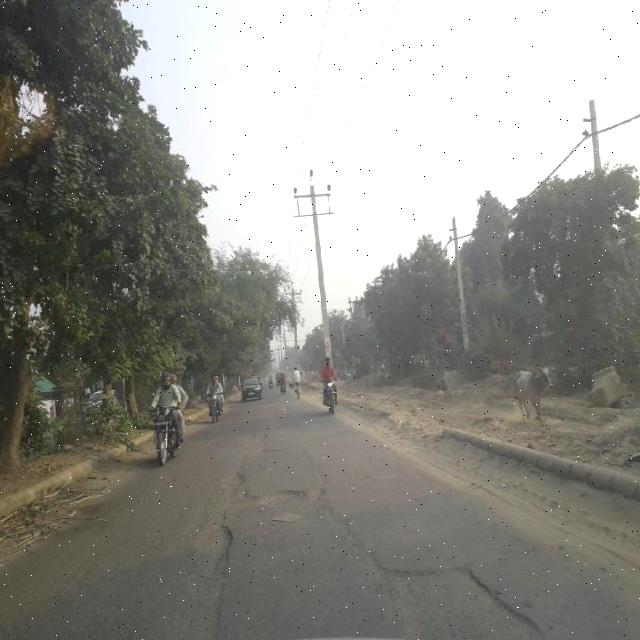D40: (170, 445, 266, 639), (365, 549, 553, 639), (269, 473, 337, 538)
